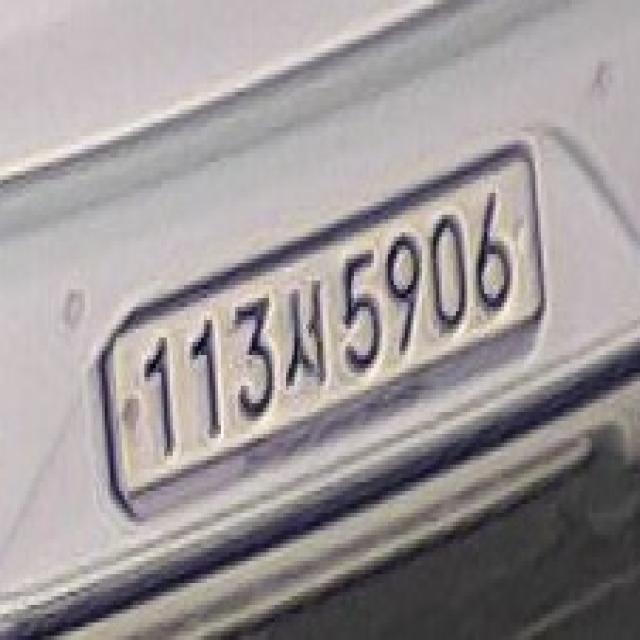plat: (99, 132, 547, 519)
